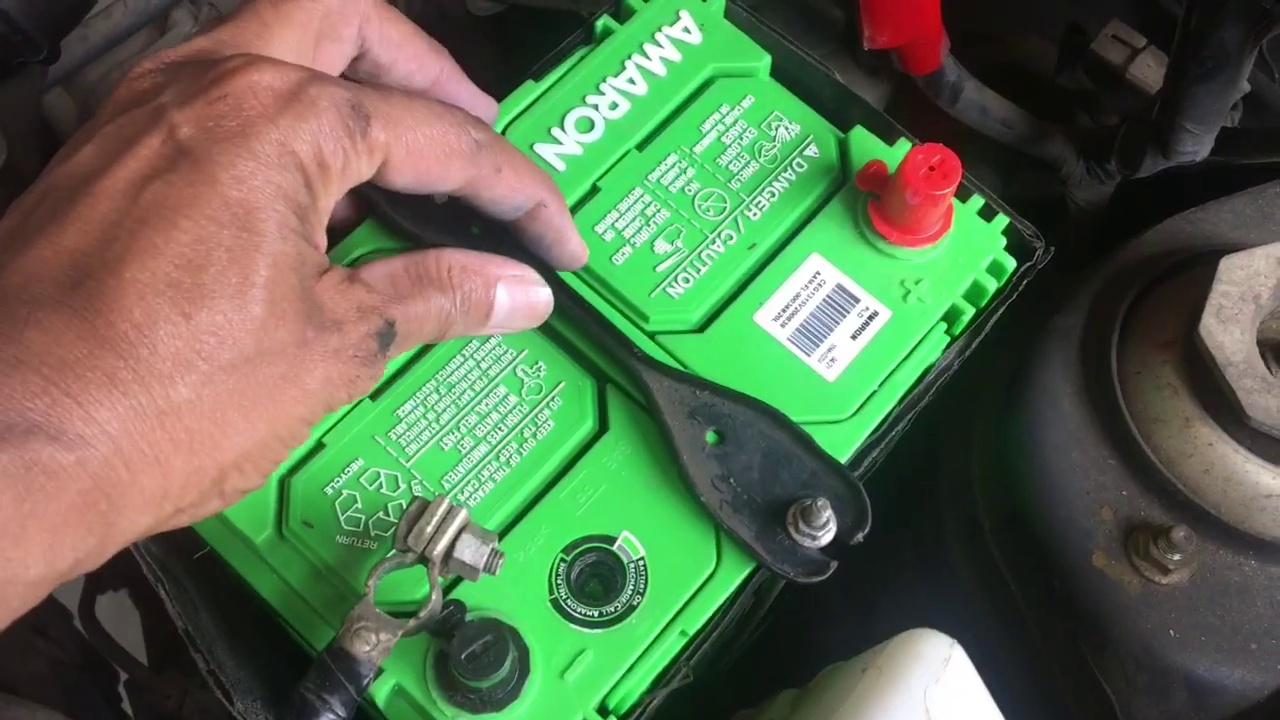battery: (175, 1, 1023, 720)
pos_disconnected: (828, 3, 985, 265)
